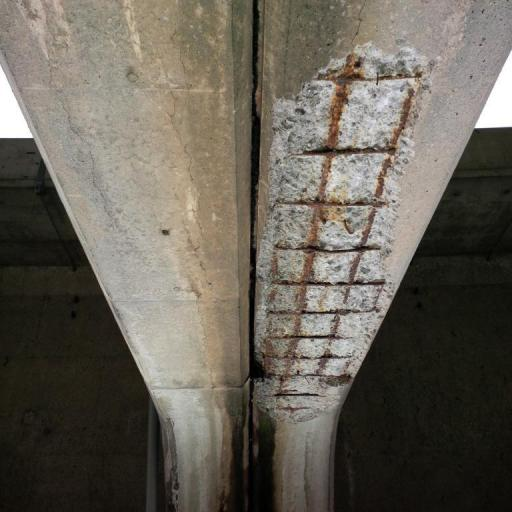spalling: (257, 45, 435, 423)
